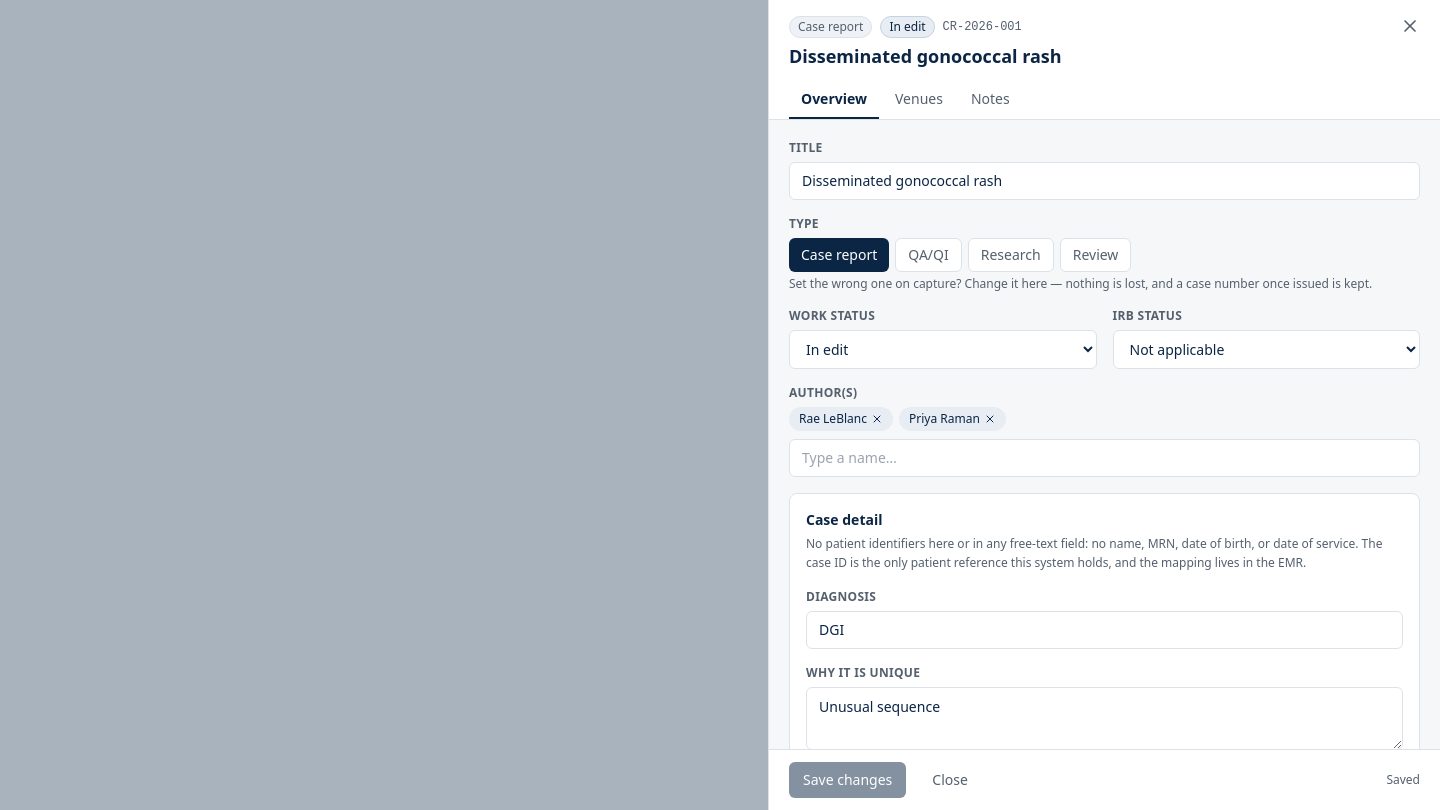
Test: refusing to save a project with no authors › lets the last author be removed
What coordinates should you click on to do the following:
click the button named "Remove Rae LeBlanc"
I would click on:
 (877, 419)
Its box is [871, 413, 883, 425].
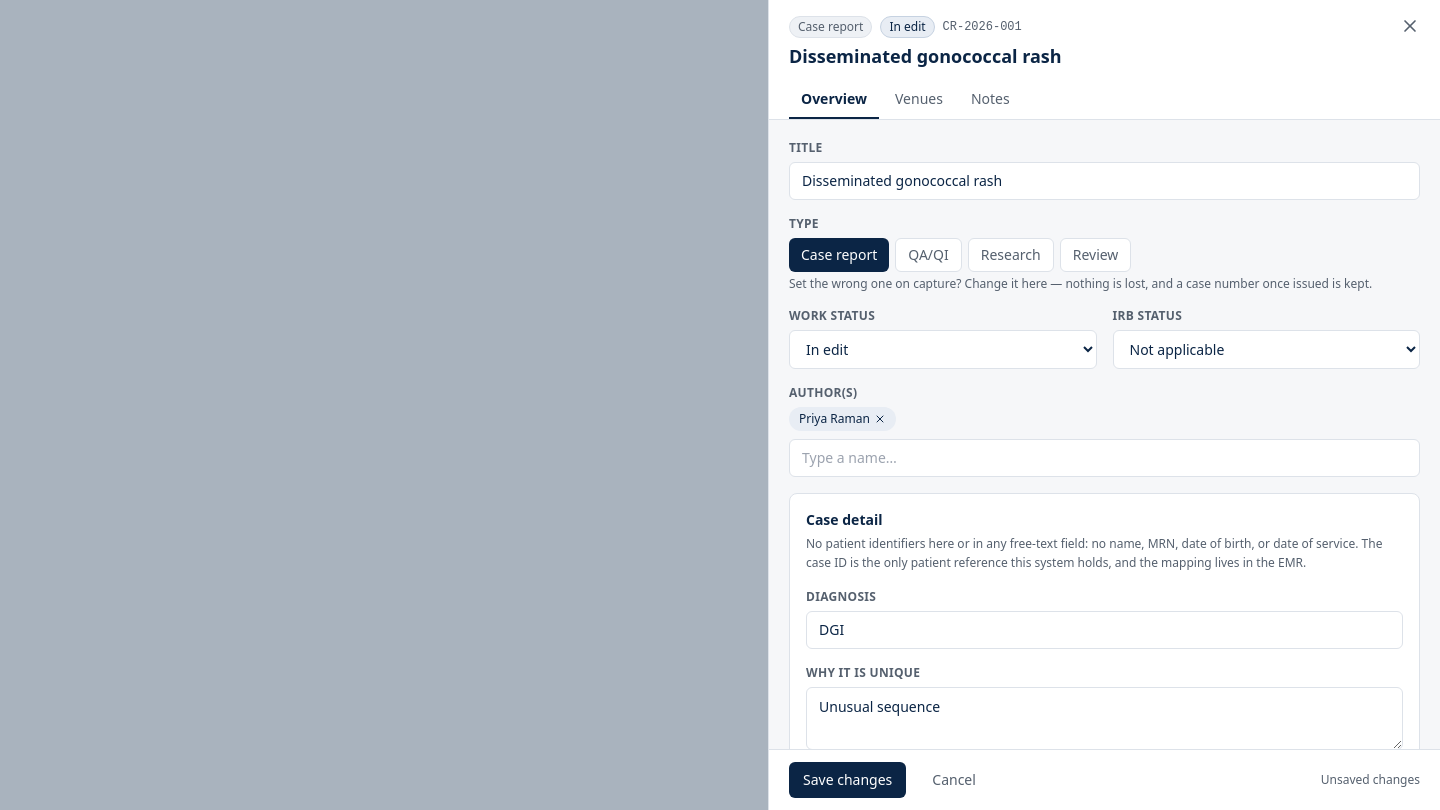
What coordinates should you click on to do the following:
click the button named "Remove Priya Raman"
I would click on:
 (880, 419)
Its box is [874, 413, 886, 425].
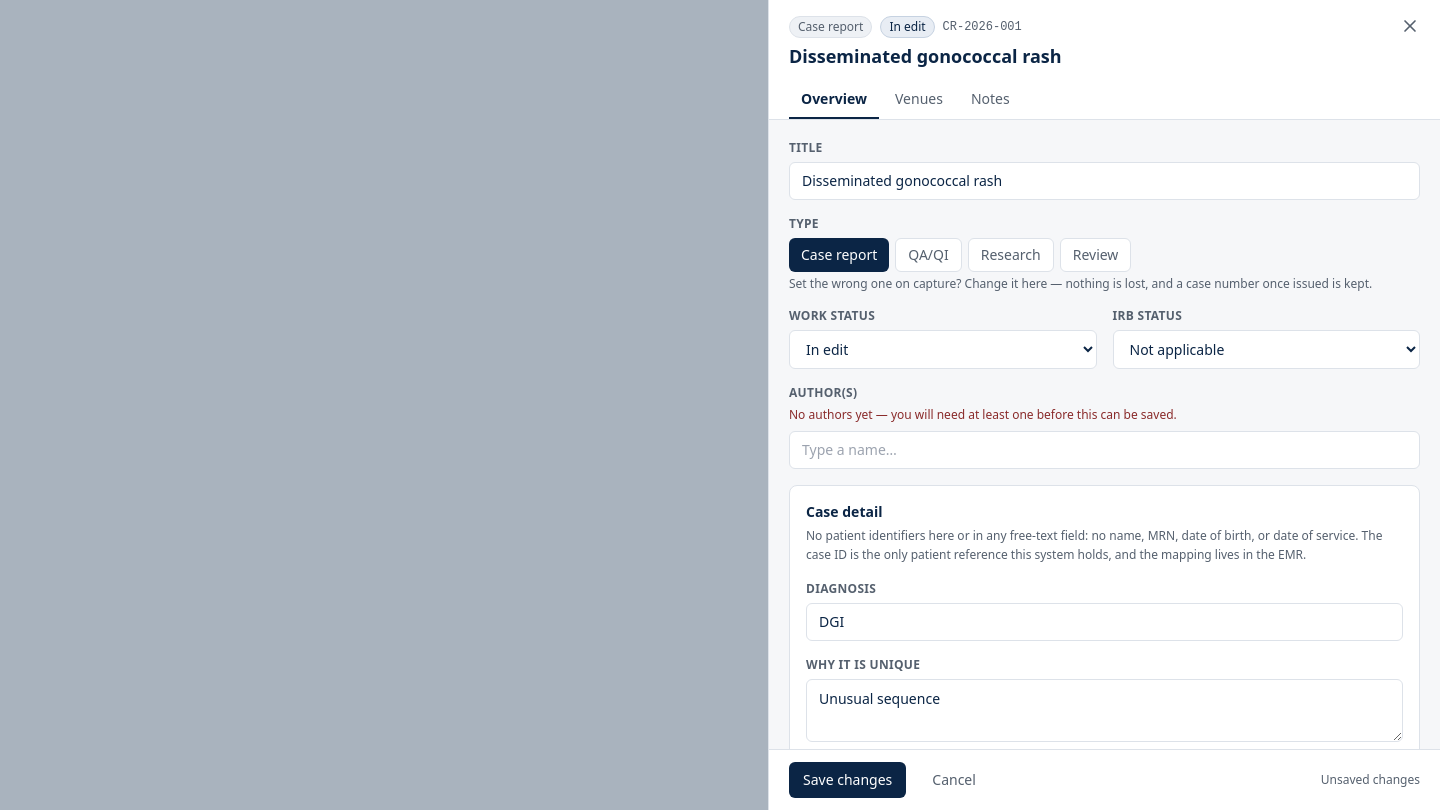
expect the text "No authors yet" is shown: met, box [789, 406, 1177, 423]
